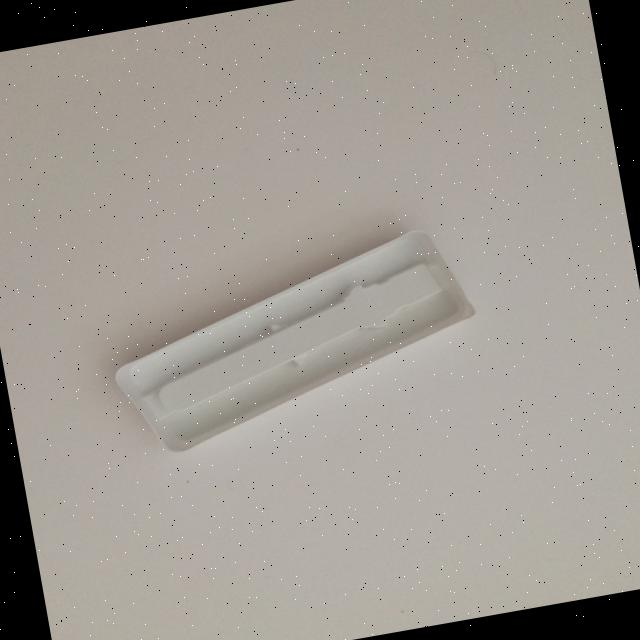plastic: (97, 220, 490, 460)
